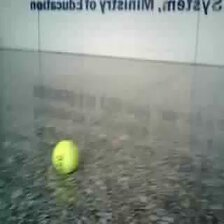tennis: (51, 141, 81, 174)
